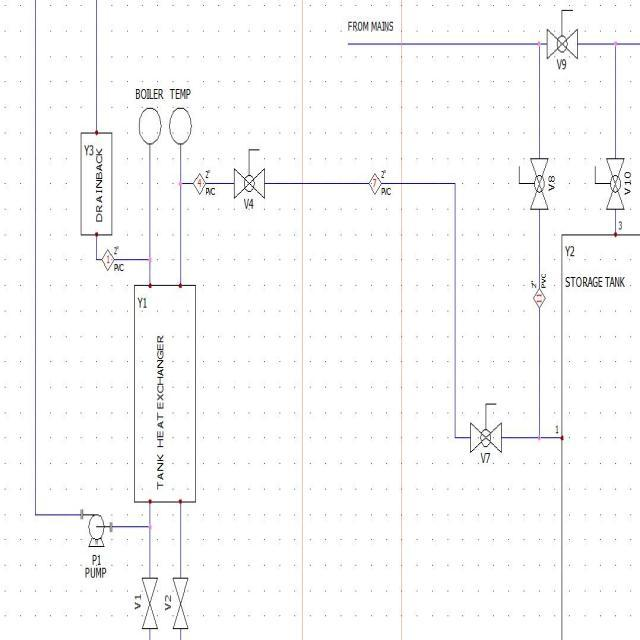Centrifugal Pump: (83, 507, 106, 550)
Cock Globe Valve: (466, 386, 510, 454), (589, 148, 627, 222), (231, 136, 269, 202), (546, 5, 590, 60), (514, 146, 550, 211)
Gate Valve: (172, 568, 190, 636), (140, 572, 158, 634)
